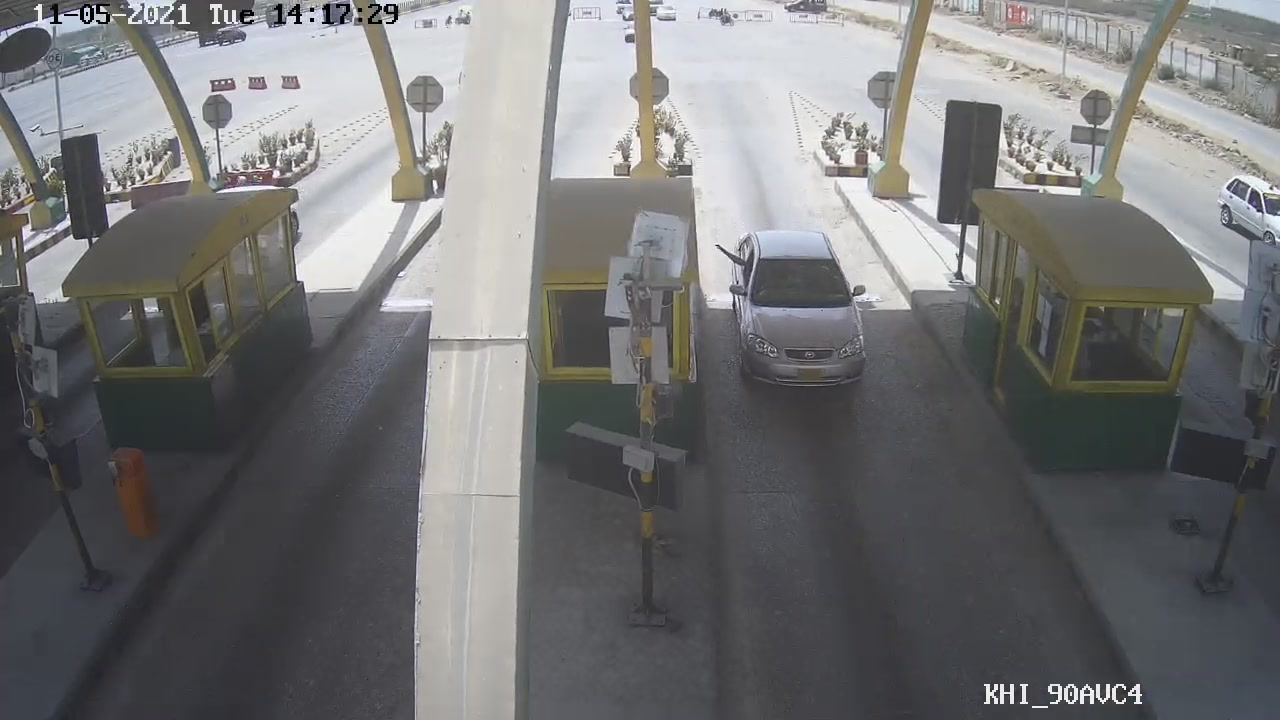F1: (723, 215, 880, 395)
